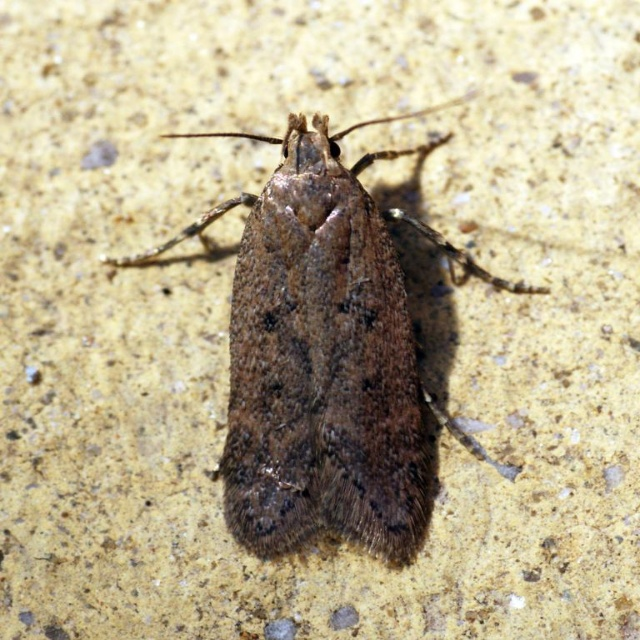Moths and butterflies: (102, 84, 551, 570)
